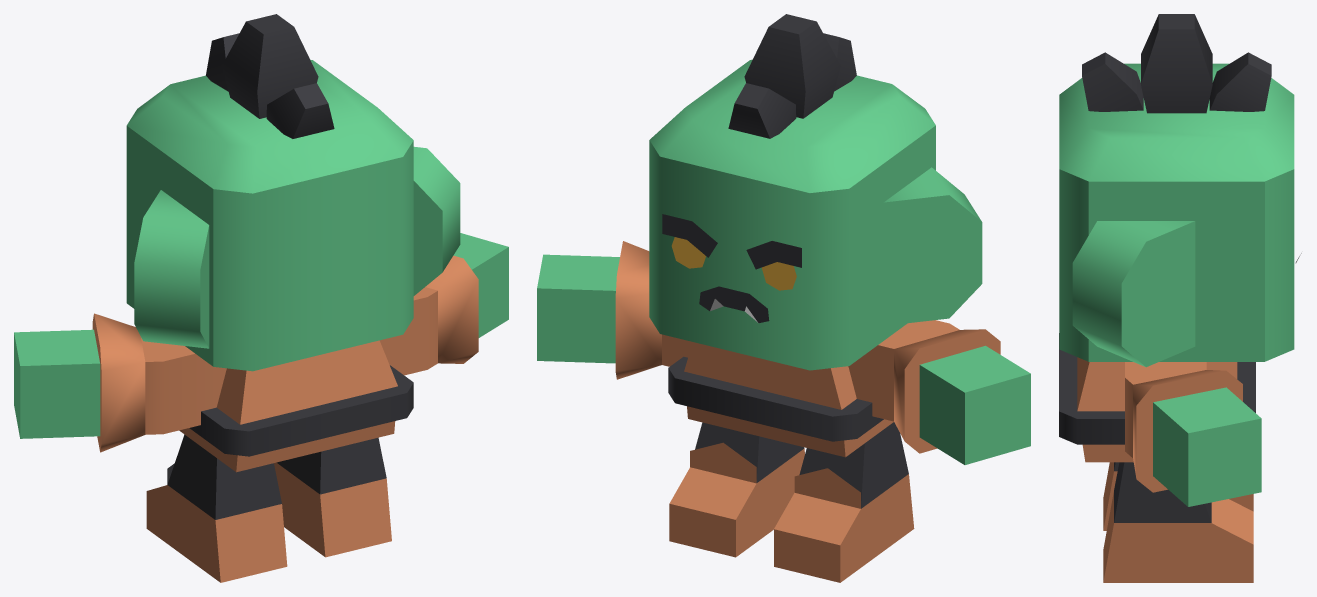
The model's file is character-orc.glb.
3 views of the same model, side by side, from view 1: azimuth 30°, elevation 25°; view 2: azimuth 150°, elevation 25°; view 3: azimuth 270°, elevation 25° (orthographic).
Parts seen in each view (by area): view 1: head, arm-left, body, leg-left, leg-right, arm-right; view 2: head, arm-left, body, leg-left, arm-right, leg-right; view 3: head, arm-right, leg-right, body, leg-left.
Boxes of the visible parts, x1=… form: head: x1=126, y1=14, x2=460, y2=371; arm-left: x1=14, y1=313, x2=226, y2=452; body: x1=179, y1=340, x2=413, y2=472; leg-left: x1=146, y1=434, x2=287, y2=582; leg-right: x1=274, y1=437, x2=391, y2=557; arm-right: x1=379, y1=233, x2=508, y2=375; head: x1=649, y1=14, x2=982, y2=370; arm-left: x1=848, y1=320, x2=1030, y2=464; body: x1=668, y1=342, x2=893, y2=457; leg-left: x1=774, y1=422, x2=914, y2=582; arm-right: x1=537, y1=241, x2=692, y2=379; leg-right: x1=669, y1=422, x2=804, y2=557; head: x1=1059, y1=14, x2=1301, y2=367; arm-right: x1=1125, y1=362, x2=1261, y2=506; leg-right: x1=1103, y1=462, x2=1253, y2=582; body: x1=1059, y1=333, x2=1255, y2=462; leg-left: x1=1103, y1=462, x2=1253, y2=530.
Bounding box in the file's own units: 0.7806 × 0.7803 × 0.3325.
